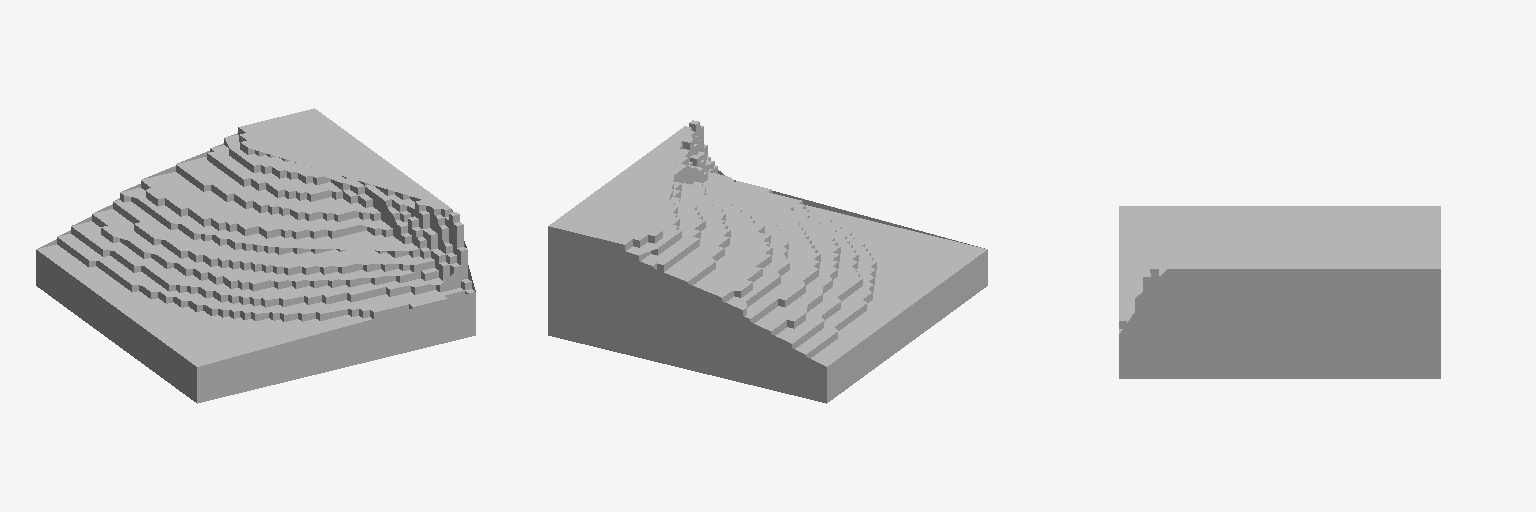
File: ElevCurveEP.obj
The picture shows the model from 3 angles: view 1: azimuth 30°, elevation 25°; view 2: azimuth 150°, elevation 25°; view 3: azimuth 270°, elevation 25°; orthographic projection.
Visible parts, largest first — view 1: Untitled; view 2: Untitled; view 3: Untitled.
Boxes of the visible parts, <box> form: Untitled: <box>36,108,475,403</box>; Untitled: <box>548,120,987,403</box>; Untitled: <box>1119,206,1440,378</box>.
Size of the model in its own units: 4 by 1.5 by 4.